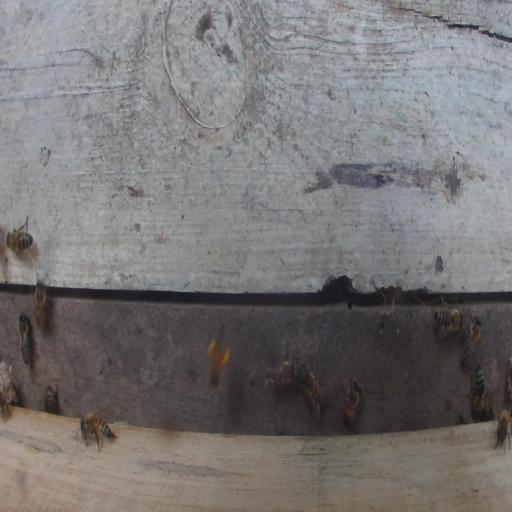nonpollenbee: (75, 411, 118, 453), (264, 342, 300, 390), (300, 363, 326, 421), (6, 214, 34, 257), (460, 316, 482, 368), (342, 375, 363, 427), (433, 306, 464, 338), (470, 361, 486, 418), (494, 407, 512, 452), (1, 363, 18, 410), (33, 275, 47, 332), (18, 313, 32, 367), (43, 385, 57, 414)
pollenbee: (208, 322, 231, 390)
